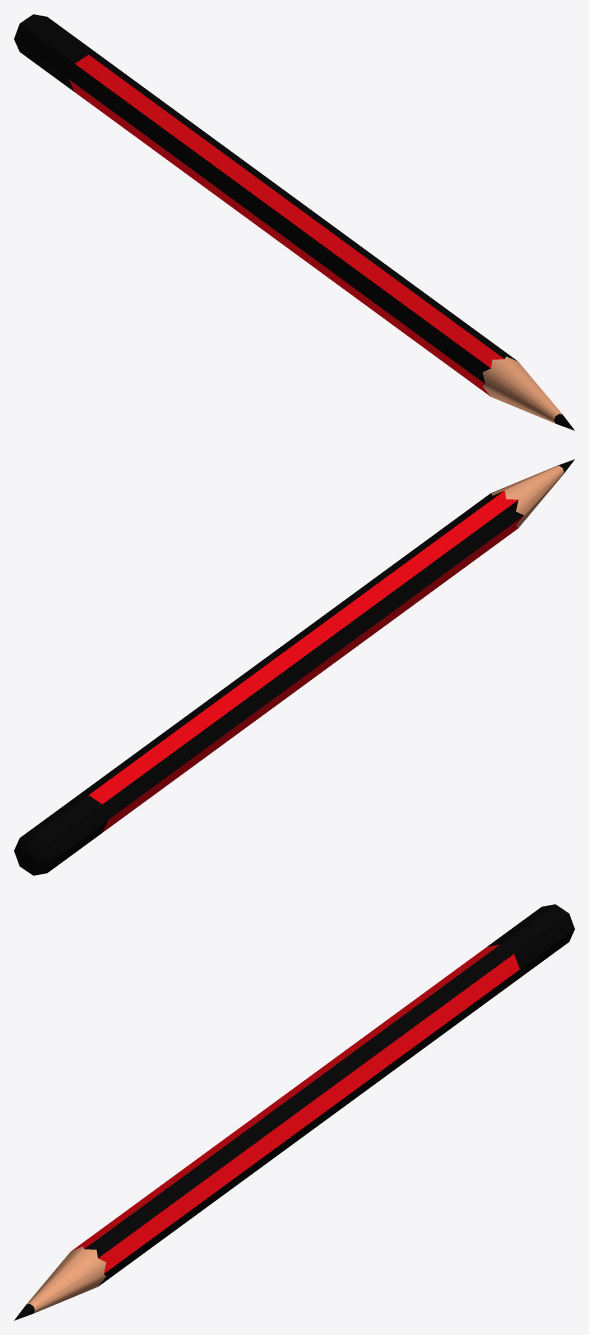
Rendered from pencil01.glb.
3 renders of one model, top to bottom at view 1: azimuth 30°, elevation 25°; view 2: azimuth 150°, elevation 25°; view 3: azimuth 330°, elevation 25°, orthographic.
Parts seen in each view (by area): view 1: Cylinder; view 2: Cylinder; view 3: Cylinder.
Boxes of the visible parts, bbox=[...] form: Cylinder: bbox=[14, 14, 574, 430]; Cylinder: bbox=[14, 459, 574, 875]; Cylinder: bbox=[14, 904, 574, 1320].
Bounding box in the file's own units: 5.69 × 5.61 × 138.
